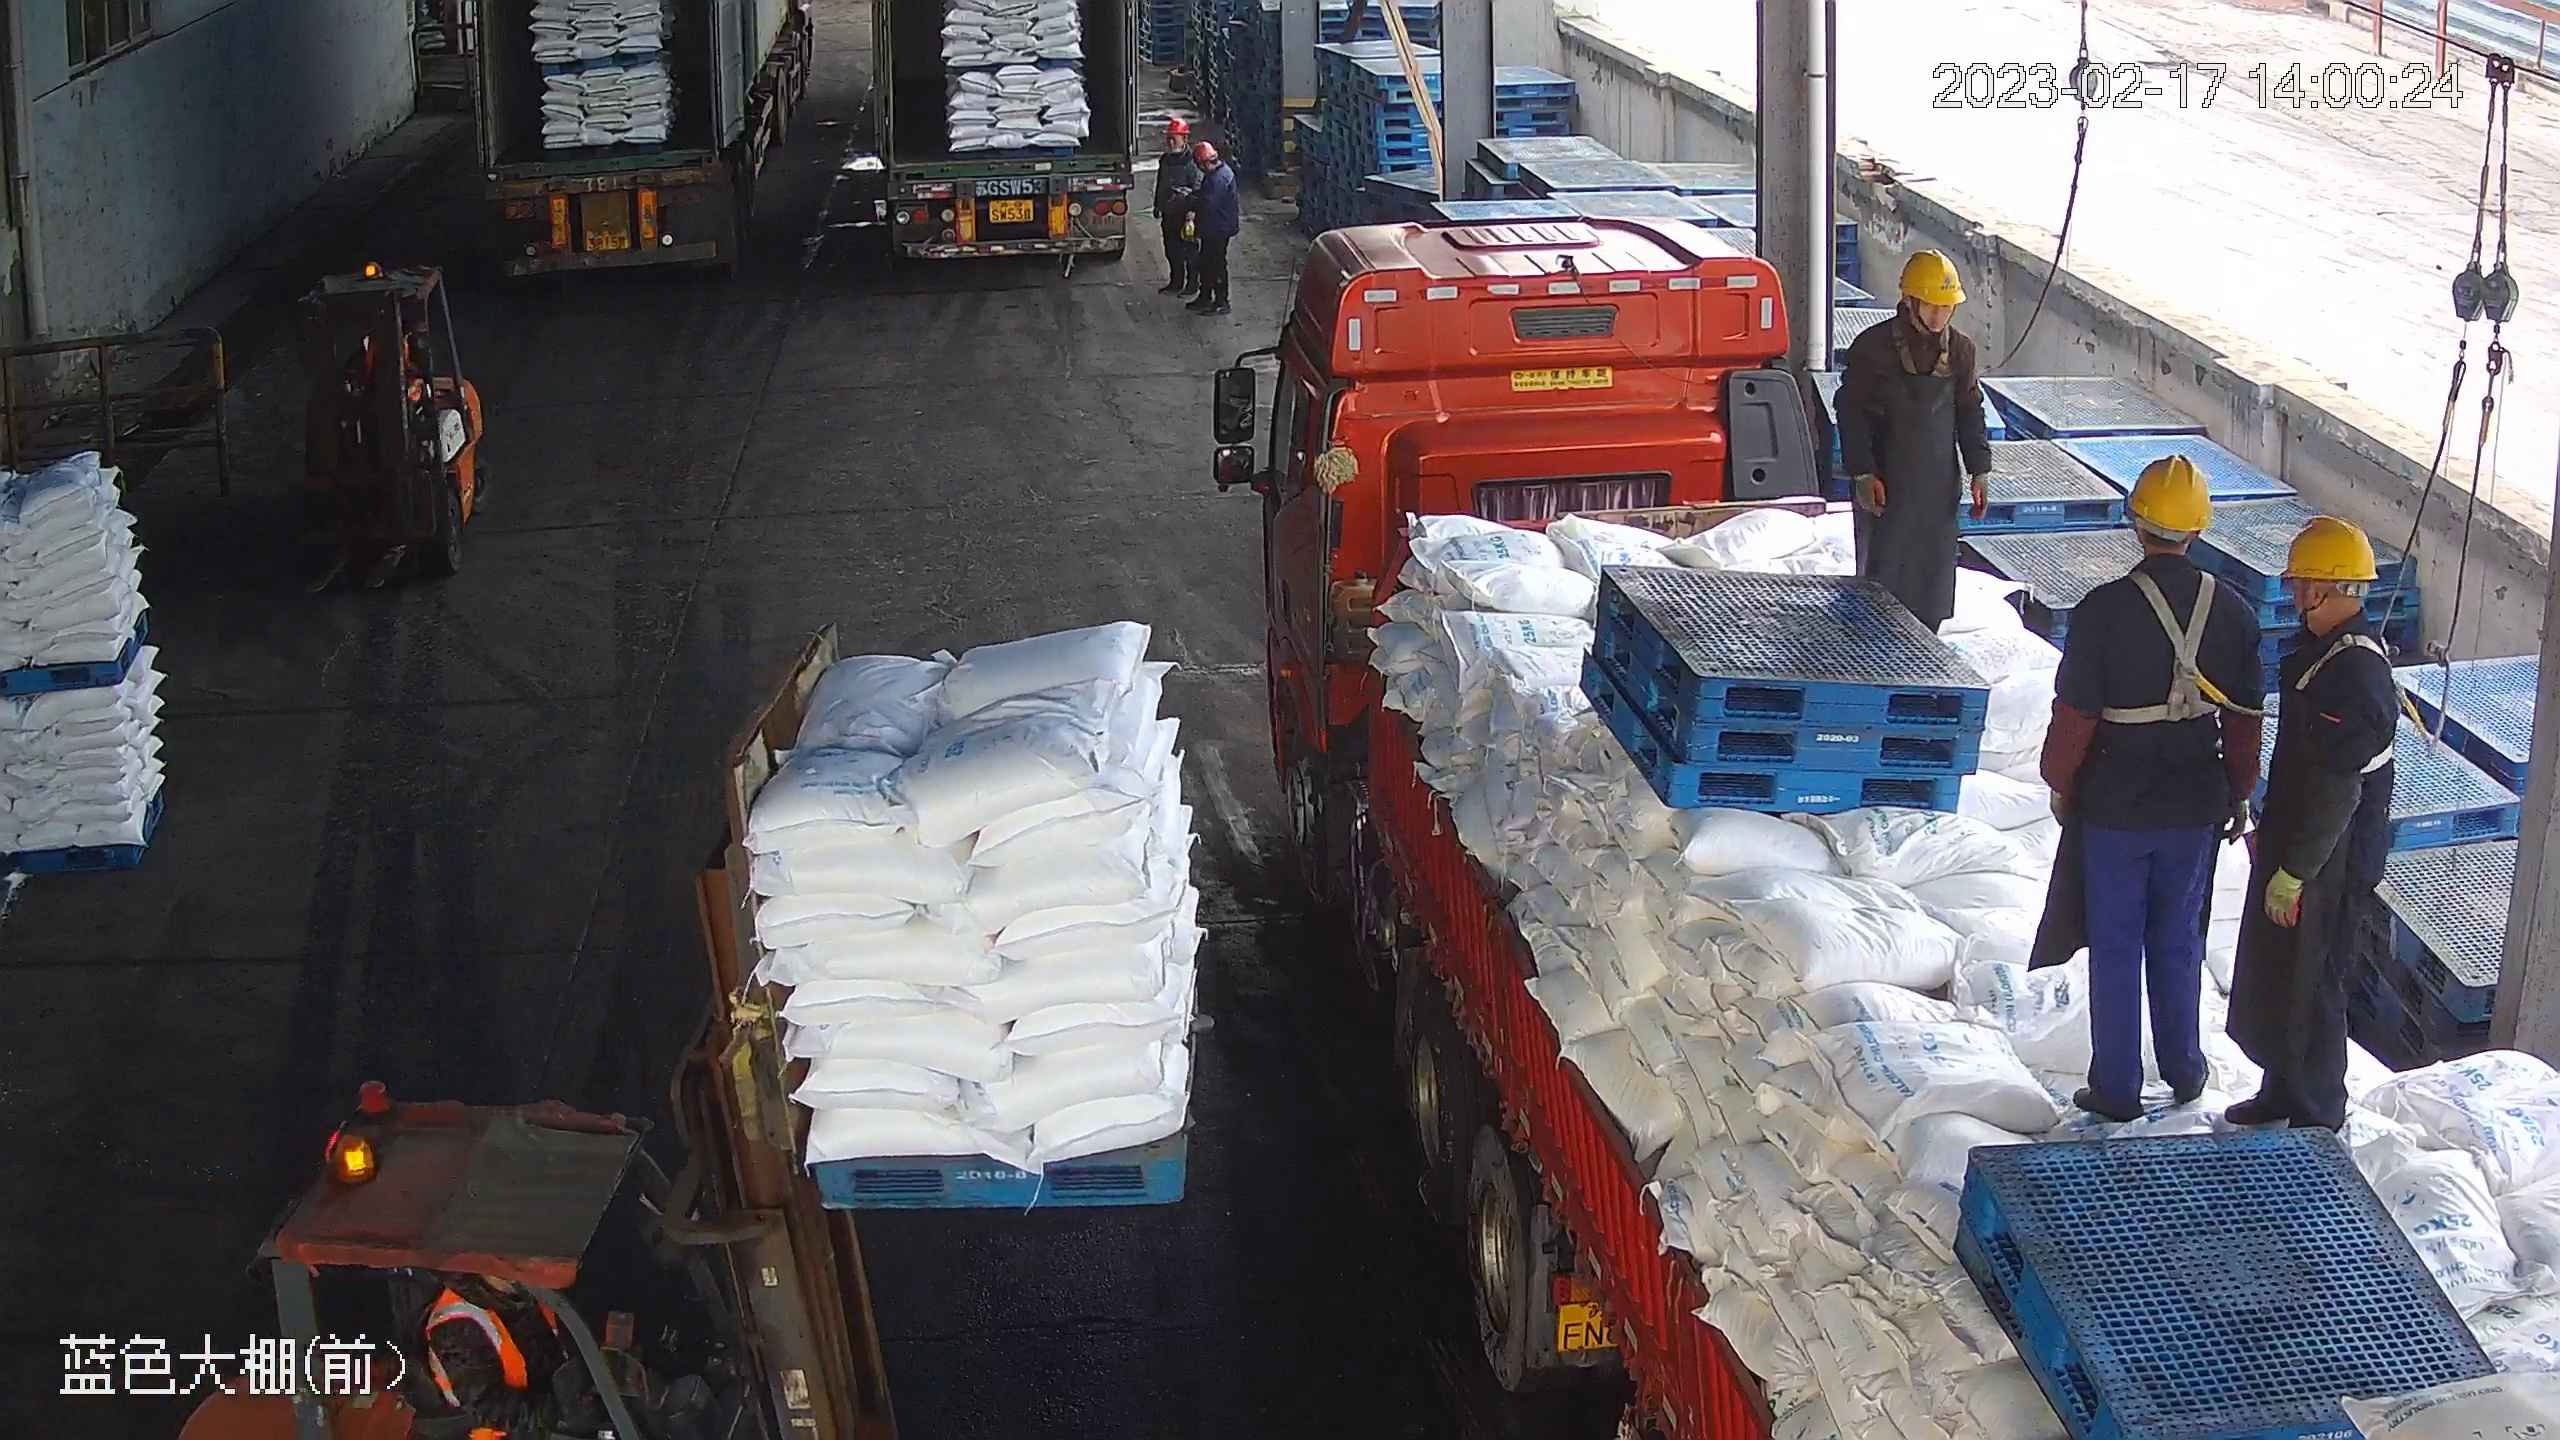belt: (2093, 557, 2230, 728), (2298, 621, 2414, 766), (1887, 311, 1967, 384)
head: (2063, 453, 2257, 641), (2250, 511, 2404, 712), (1842, 246, 1979, 380), (1152, 116, 1199, 172), (1188, 136, 1232, 191)
helmet: (2123, 451, 2214, 532), (2275, 511, 2376, 579), (1895, 244, 1963, 306), (1192, 141, 1220, 161), (1162, 116, 1191, 135)
people: (2034, 453, 2269, 1125), (2225, 500, 2413, 1144), (1836, 240, 1990, 638), (1184, 134, 1236, 319), (1149, 121, 1198, 292)
truck: (1220, 201, 2555, 1431), (465, 2, 818, 280), (857, 2, 1142, 274)
